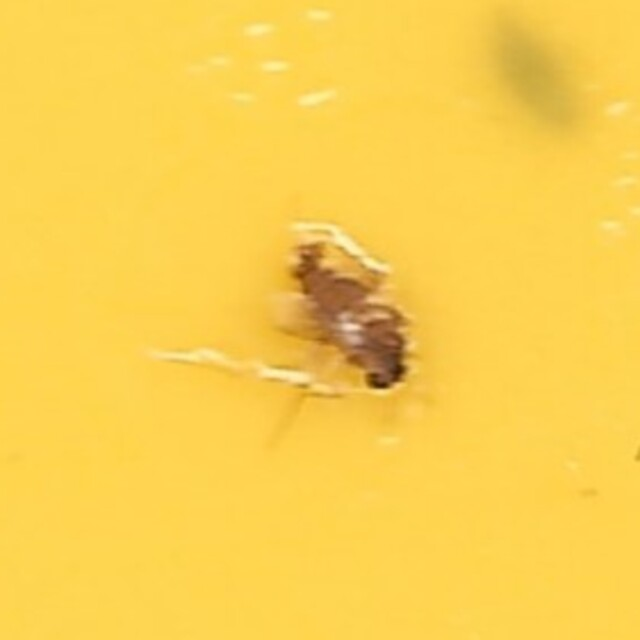Nematocera: (228, 218, 412, 422)
